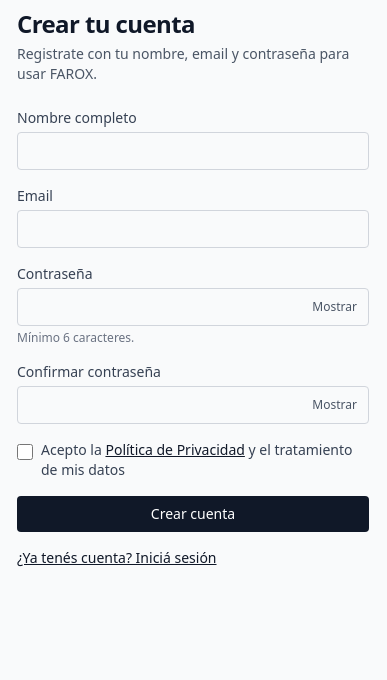
it: RegisterPage (D1 · ruta pública /register) › formulario vacío: errores inline y CERO requests
Click the button "Crear cuenta" at {"x": 193, "y": 514}, box [17,496,369,532]
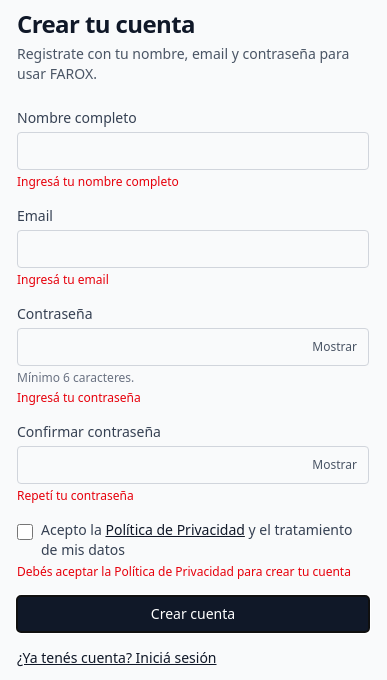
Now the text "Ingresá tu nombre completo" is shown, box [17,173,179,190]
Now the text "Ingresá tu email" is shown, box [17,271,109,288]
Now the text "Ingresá tu contraseña" is shown, box [17,389,141,406]
